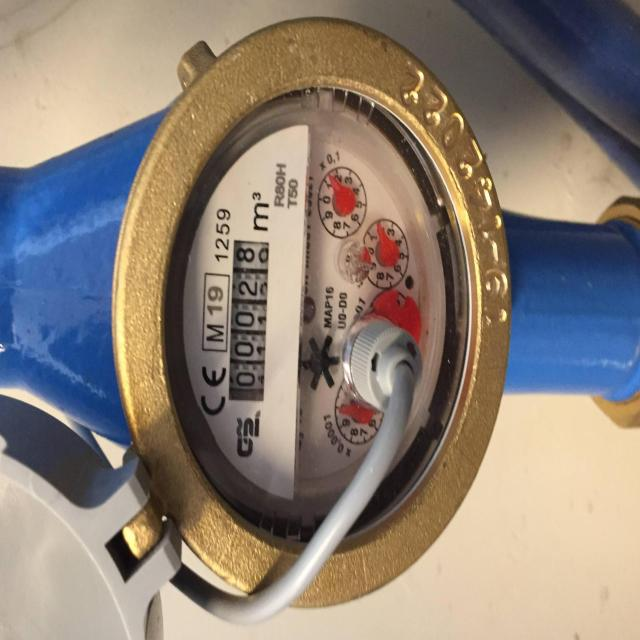gaz_meter: (112, 20, 507, 606)
indication: (228, 239, 269, 403)
